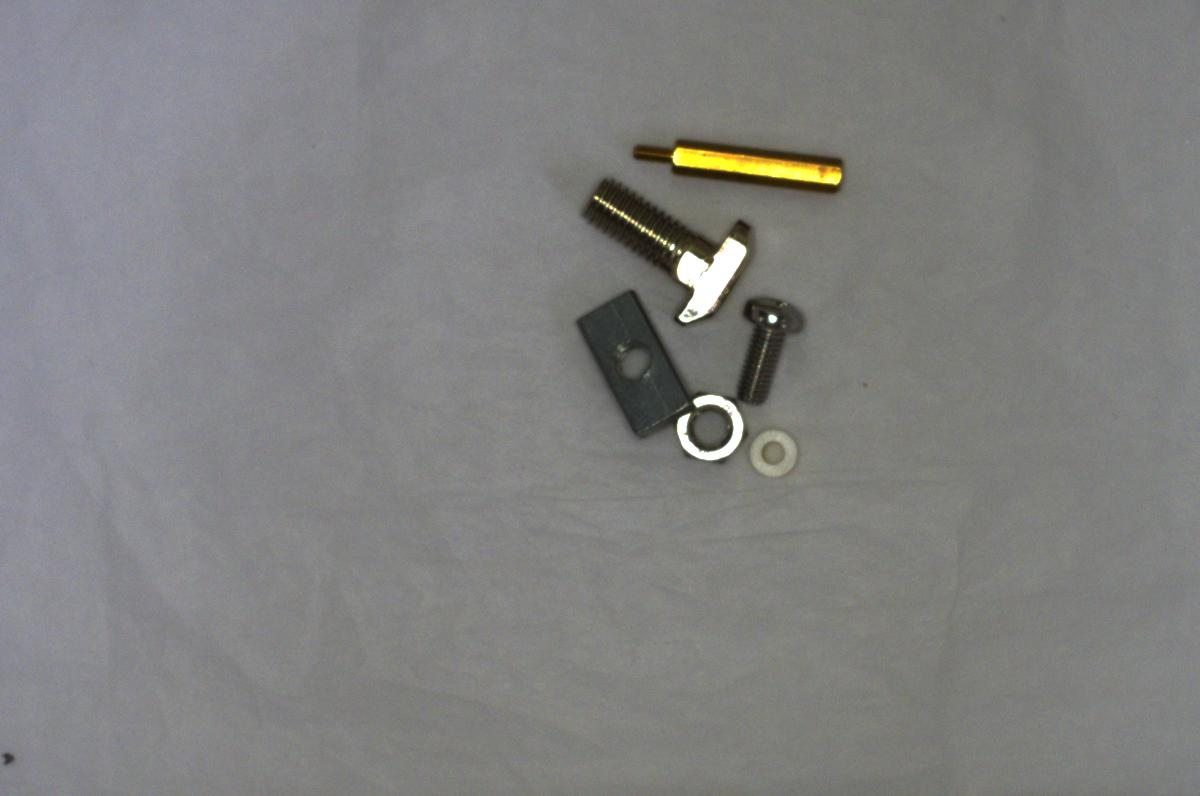Hexagon nut: (662, 382, 748, 465)
Hexagon pillar: (630, 128, 852, 189)
Plastic cushion pillar: (739, 423, 801, 482)
Rectangular nut: (570, 287, 688, 435)
Round head screw: (731, 290, 801, 413)
T-shaped screw: (574, 178, 764, 325)
